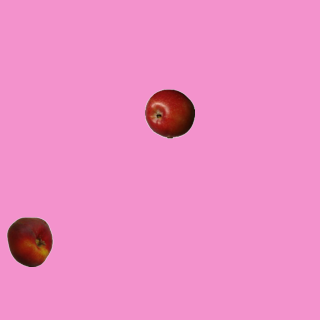Apple Braeburn: (144, 88, 194, 138)
Nectarine Flat: (4, 216, 54, 266)
